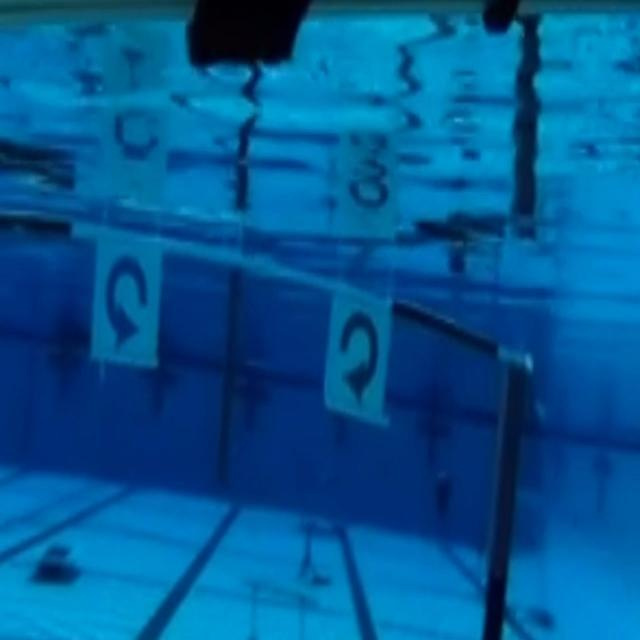Gate: (3, 199, 564, 640)
